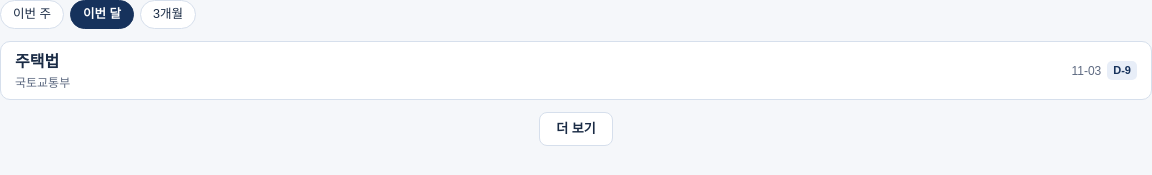
Test case: LawListView › 더 보기 — 같은 기간·커서로 다음 쪽을 이어 붙이고, 마지막 쪽이면 버튼이 사라진다
The image size is (1152, 175).
Click the button "더 보기". click: coordinates (576, 129)
box: x1=539 y1=112 x2=613 y2=146
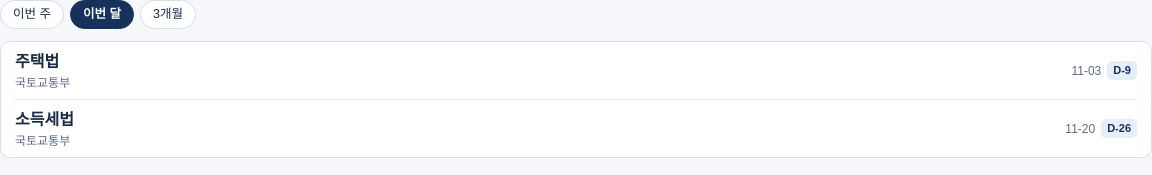
expect the link "주택법" is shown: met, box x1=15 y1=53 x2=59 y2=70
expect the link "소득세법" is shown: met, box x1=15 y1=111 x2=74 y2=128
expect the button "더 보기" is gone: met
